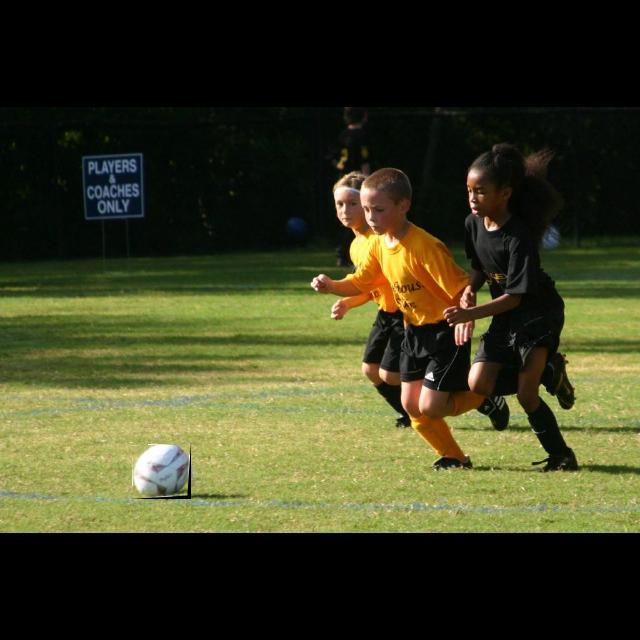Football: (133, 445, 191, 499)
